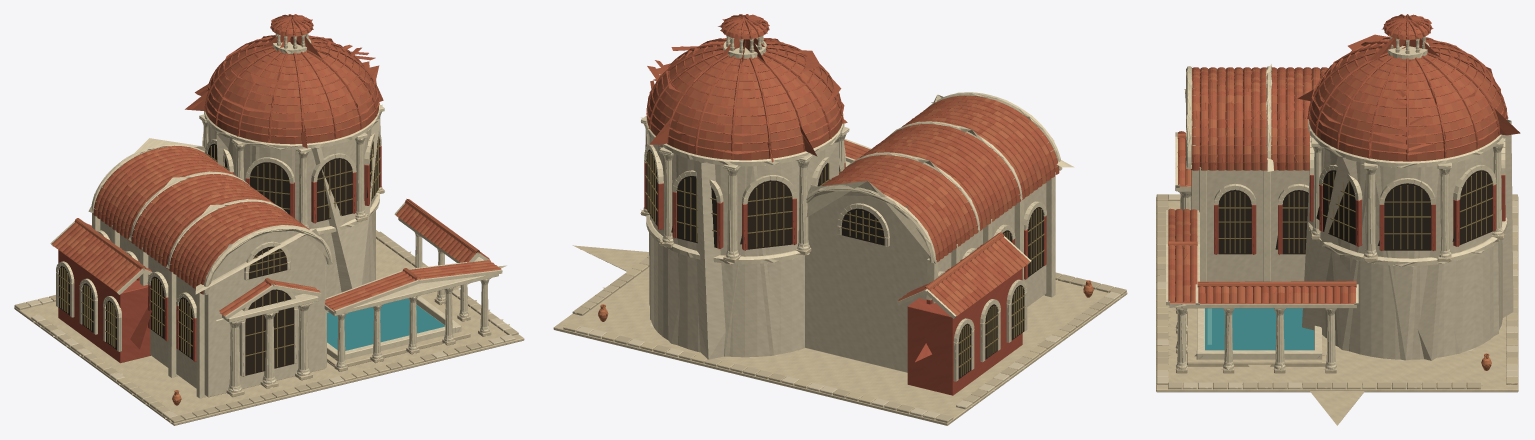
File: thermen.glb
3 views of the same model, side by side, from view 1: azimuth 30°, elevation 25°; view 2: azimuth 150°, elevation 25°; view 3: azimuth 270°, elevation 25° (orthographic). The views are drawn at different scales.
Parts seen in each view (by area): view 1: Limestone_trim.001, Tile_0.001, Limewash.001, Travertine.001, Interior_shadow.001, Tile_1.001, Tile_2.001, Pompeian_red.001, Bronze.001, Tile_5.001, Tile_0.002, Limestone_trim.002 (+13 smaller); view 2: Limewash.001, Tile_0.001, Travertine.001, Limestone_trim.001, Tile_1.001, Pompeian_red.001, Interior_shadow.001, Tile_2.001, Limewash.002, Tile_0.002, Limewash.004, Bronze.001 (+13 smaller); view 3: Limewash.001, Tile_0.001, Limestone_trim.001, Travertine.001, Interior_shadow.001, Tile_1.001, Tile_2.001, Limewash.004, Limewash.002, Tile_0.002, Tile_0.004, Pool_water.001 (+16 smaller).
Part boxes in pixels (left/top/right/bottom): Limestone_trim.001: left=50, top=33, right=502, bottom=398; Tile_0.001: left=59, top=14, right=494, bottom=311; Limewash.001: left=56, top=127, right=375, bottom=397; Travertine.001: left=14, top=40, right=524, bottom=425; Interior_shadow.001: left=58, top=139, right=379, bottom=375; Tile_1.001: left=59, top=22, right=501, bottom=313; Tile_2.001: left=53, top=23, right=476, bottom=316; Pompeian_red.001: left=58, top=146, right=381, bottom=363; Bronze.001: left=58, top=137, right=380, bottom=372; Tile_5.001: left=52, top=148, right=497, bottom=315; Tile_0.002: left=59, top=14, right=469, bottom=308; Limestone_trim.002: left=58, top=34, right=489, bottom=392; Limewash.001: left=651, top=138, right=1052, bottom=381; Tile_0.001: left=646, top=14, right=1059, bottom=309; Travertine.001: left=553, top=38, right=1127, bottom=425; Limestone_trim.001: left=641, top=36, right=1061, bottom=350; Tile_1.001: left=648, top=24, right=1056, bottom=308; Pompeian_red.001: left=644, top=162, right=1046, bottom=395; Interior_shadow.001: left=646, top=149, right=1043, bottom=378; Tile_2.001: left=647, top=24, right=1053, bottom=315; Limewash.002: left=650, top=122, right=1050, bottom=379; Tile_0.002: left=647, top=14, right=1057, bottom=310; Limewash.004: left=649, top=102, right=1031, bottom=359; Bronze.001: left=645, top=151, right=1044, bottom=376; Limewash.001: left=1191, top=88, right=1502, bottom=359; Tile_0.001: left=1168, top=14, right=1507, bottom=303; Limestone_trim.001: left=1166, top=37, right=1507, bottom=369; Travertine.001: left=1156, top=41, right=1518, bottom=392; Interior_shadow.001: left=1218, top=170, right=1492, bottom=254; Tile_1.001: left=1168, top=24, right=1505, bottom=303; Tile_2.001: left=1168, top=24, right=1503, bottom=303; Limewash.004: left=1302, top=119, right=1513, bottom=360; Limewash.002: left=1193, top=88, right=1499, bottom=360; Tile_0.002: left=1172, top=14, right=1506, bottom=303; Tile_0.004: left=1297, top=14, right=1520, bottom=161; Pool_water.001: left=1205, top=308, right=1314, bottom=350.
Size of the model in its own units: 25.47 by 16.04 by 17.11.
Materials: 19 (6 with a texture image).
